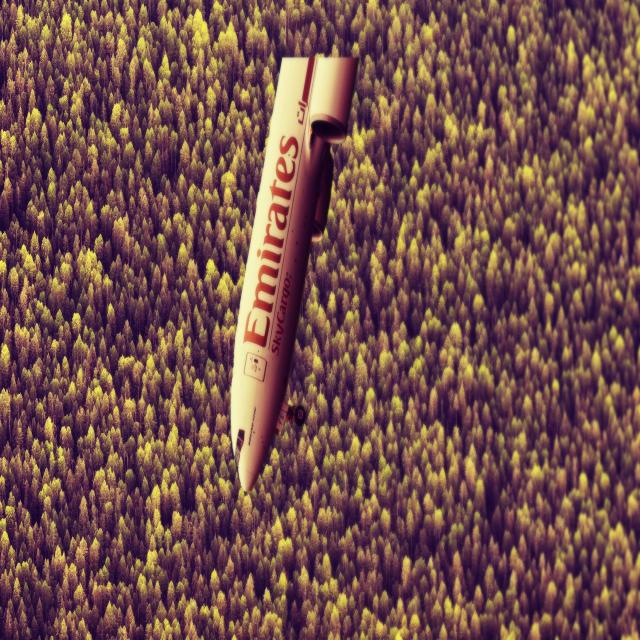airplane: (229, 52, 359, 494)
